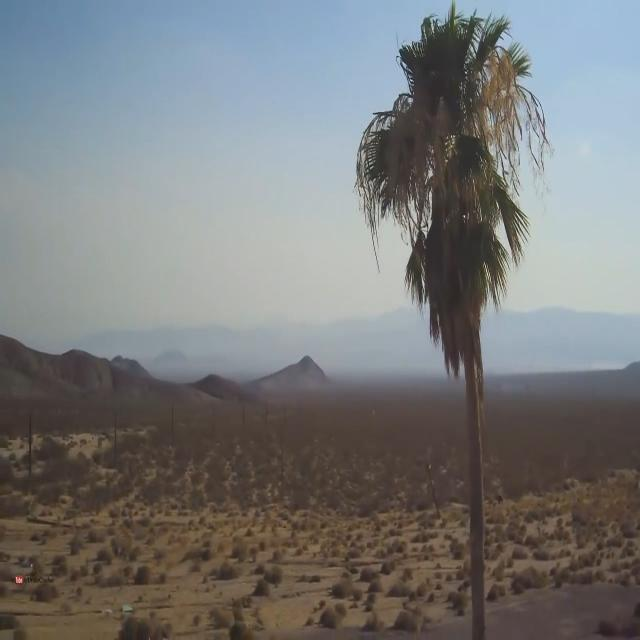Tree: (357, 16, 544, 640)
